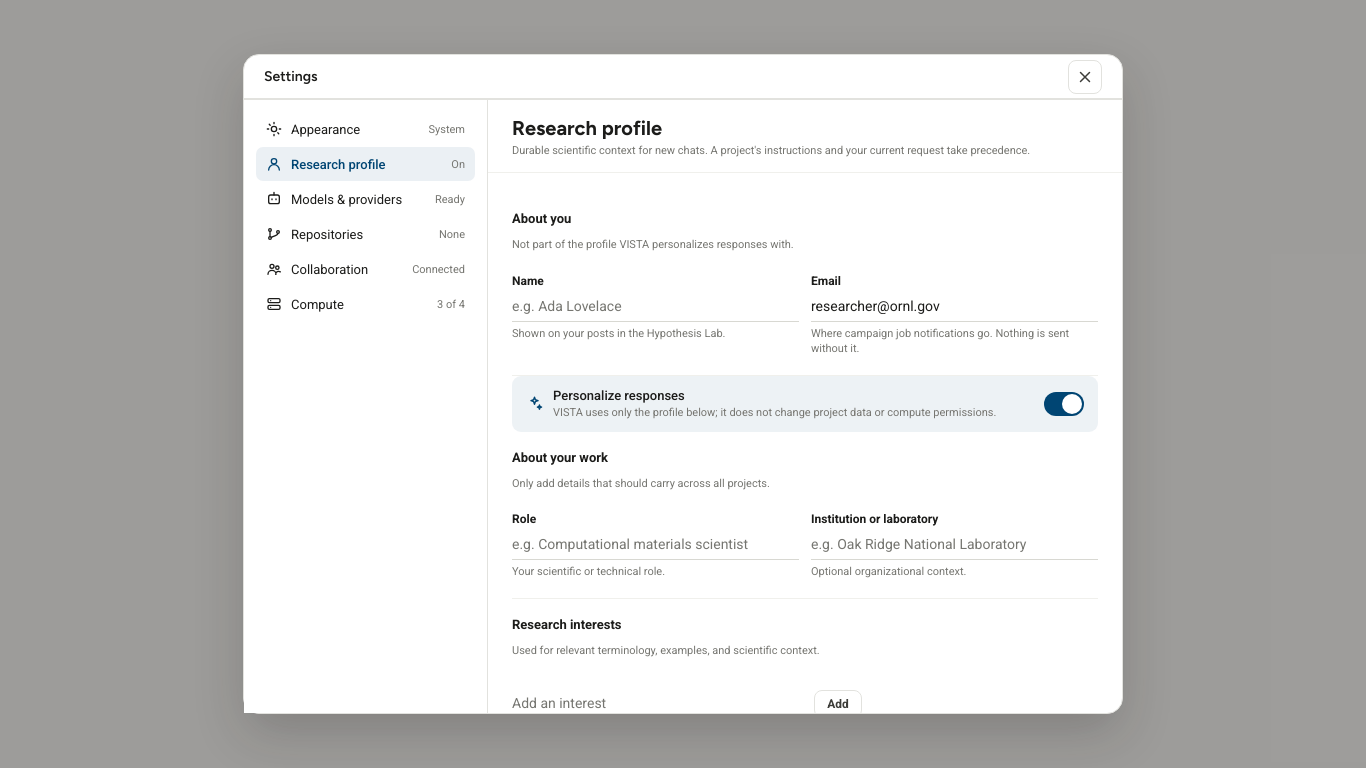
Scenario: UserSettingsModal collaboration › says when a check could not be made, beside the last answer
The width and height of the screenshot is (1366, 768).
What coordinates should you click on to do the following:
click the button "Collaboration Connected"
I would click on:
 (366, 269)
Its box is [256,252,475,286].
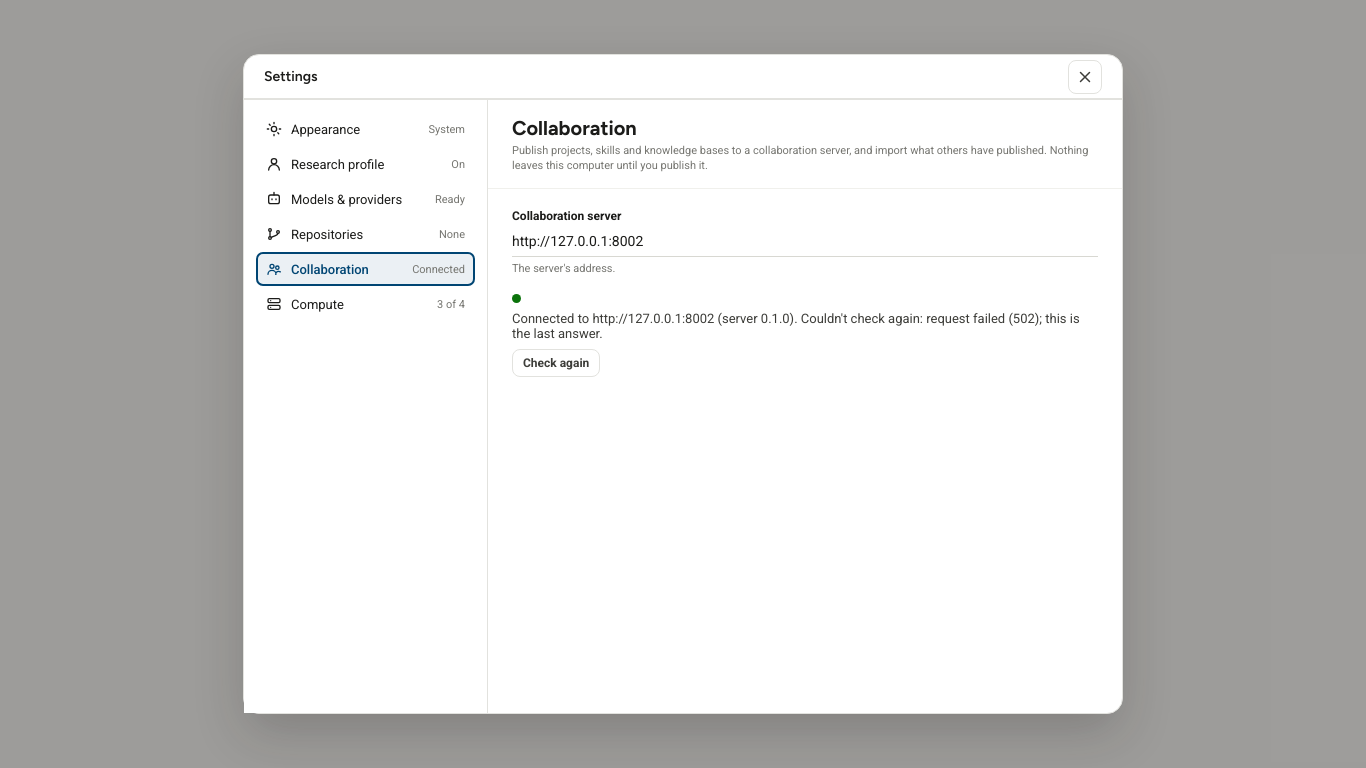
Now the element "Collaboration" shows "Connected to http://127.0.0.1:8002 (server 0.1.0).", box [512,311,798,326]
Now the element "Collaboration" shows "Couldn't check again: request failed (502); this is the last answer.", box [512,311,1080,341]
